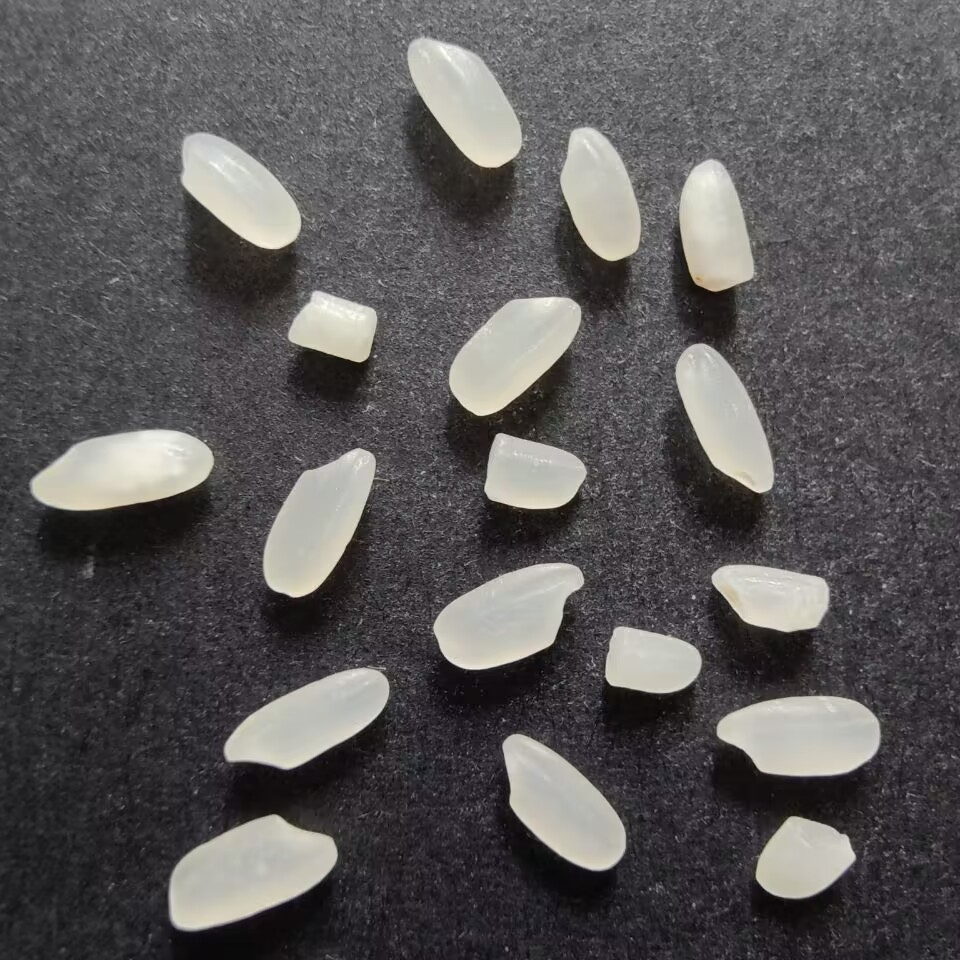broken: (750, 813, 858, 906), (476, 430, 590, 514), (710, 560, 836, 635), (597, 622, 707, 697), (283, 288, 385, 366)
rice: (165, 807, 340, 939), (496, 732, 634, 874), (216, 665, 395, 773), (260, 442, 377, 603), (446, 291, 588, 419), (433, 558, 587, 675), (404, 31, 526, 174), (27, 426, 219, 513), (671, 339, 776, 496), (173, 130, 304, 254), (711, 690, 884, 779), (554, 120, 642, 268), (672, 156, 762, 297)
